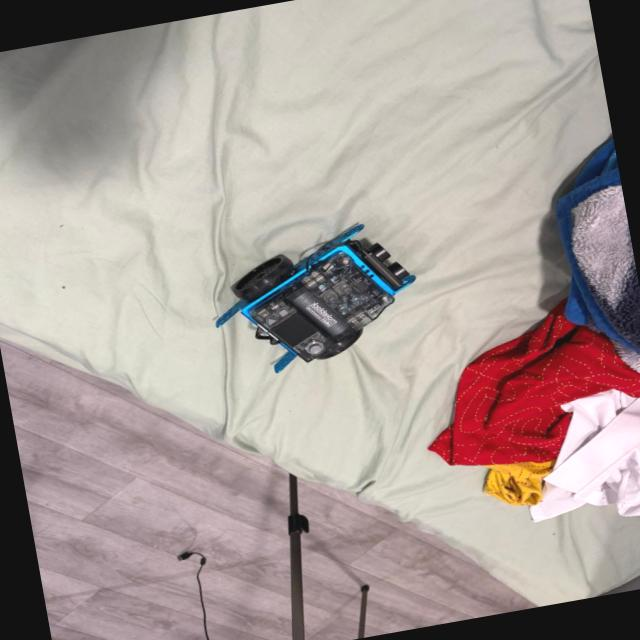mbot-detection: (196, 212, 436, 388)
